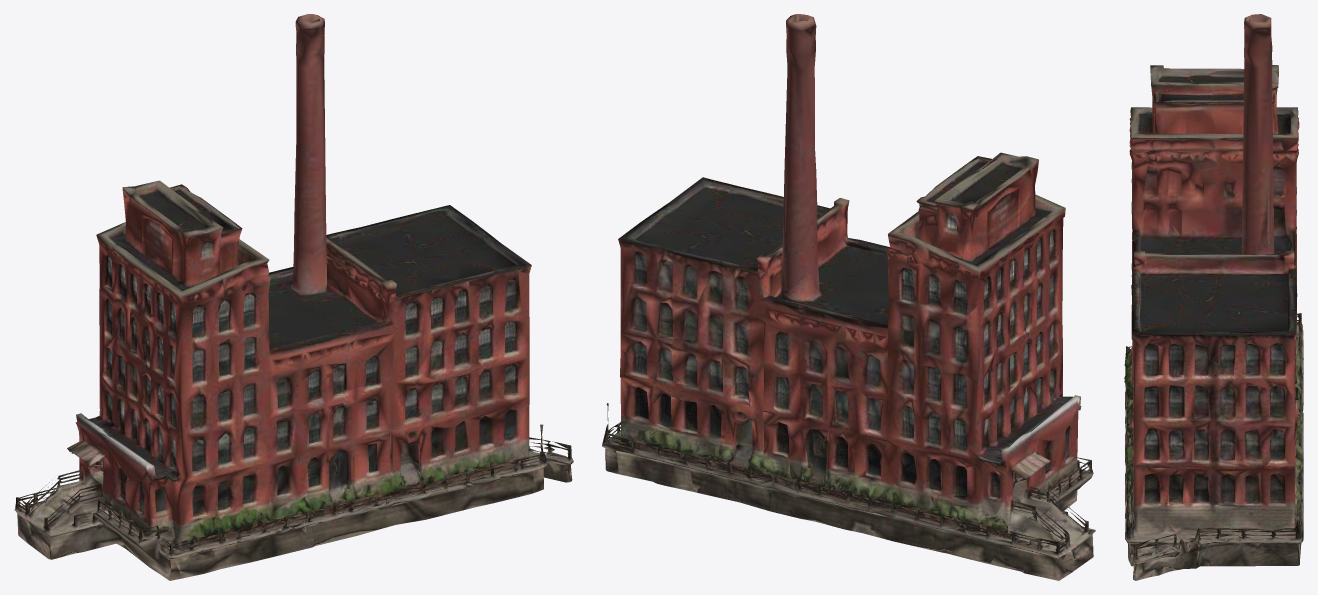
The model's file is mill.glb.
3 renders of one model, left to right at view 1: azimuth 30°, elevation 25°; view 2: azimuth 150°, elevation 25°; view 3: azimuth 270°, elevation 25°, orthographic. The views are drawn at different scales.
Visible parts, largest first — view 1: Mesh_0; view 2: Mesh_0; view 3: Mesh_0.
Boxes of the visible parts, <box> form: Mesh_0: <box>14,14,573,580</box>; Mesh_0: <box>602,14,1095,580</box>; Mesh_0: <box>1124,14,1303,580</box>.
Bounding box in the file's own units: 1.89 × 1.77 × 0.6207.
1 material, 1 textured.
